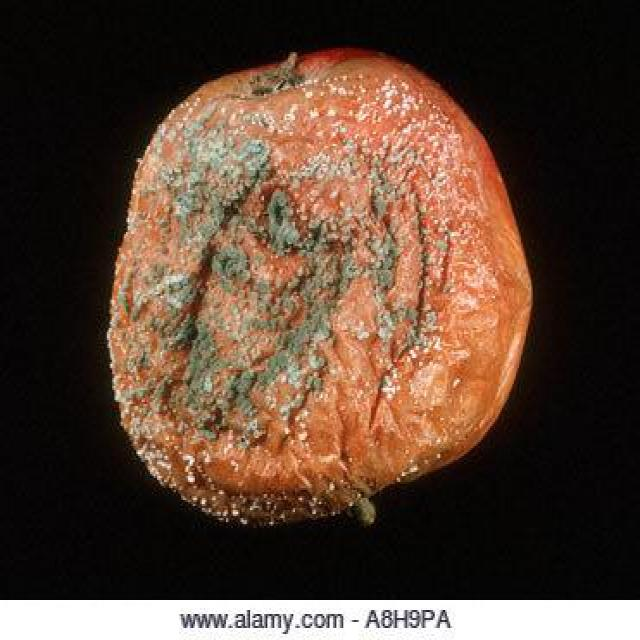Rotten: (103, 46, 537, 522)
